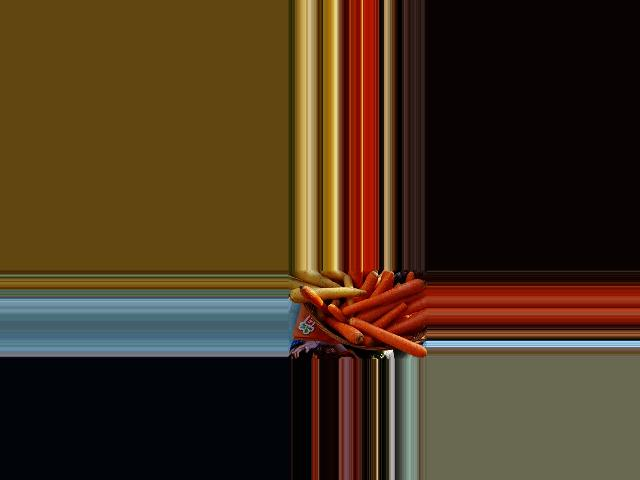carrot: (318, 317, 361, 346)
